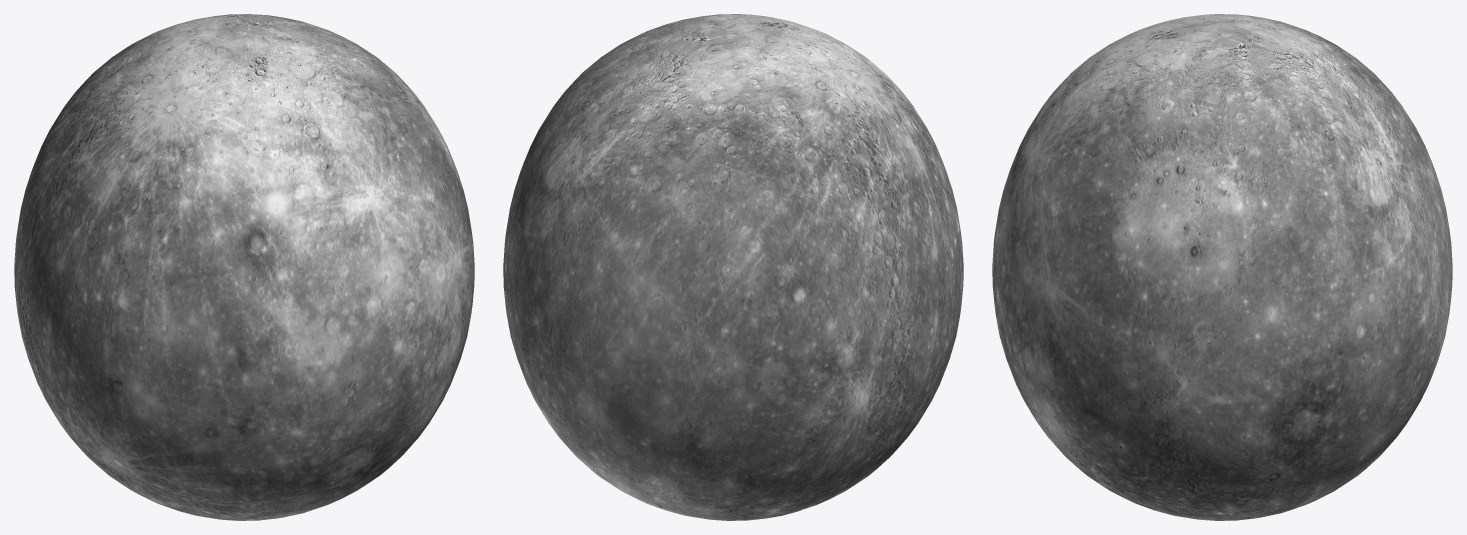
The model's file is water_body lvl 2 surface low.glb.
The picture shows the model from 3 angles, left to right: view 1: azimuth 30°, elevation 25°; view 2: azimuth 150°, elevation 25°; view 3: azimuth 270°, elevation 25°; orthographic projection.
Visible parts, largest first — view 1: Surface; view 2: Surface; view 3: Surface.
Boxes of the visible parts, x1,y1,x2,y2 form: Surface: (14,14,474,520); Surface: (503,14,963,520); Surface: (992,14,1452,520).
Bounding box in the file's own units: 1.93 × 2.16 × 1.93.
1 material, 1 textured.
